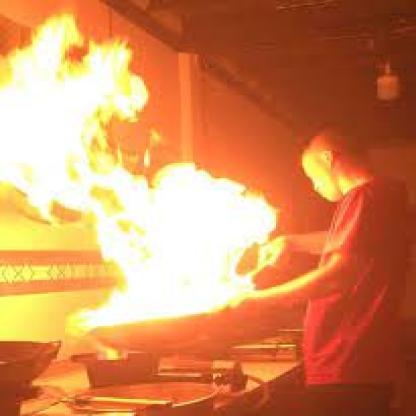fire: (2, 12, 273, 330)
